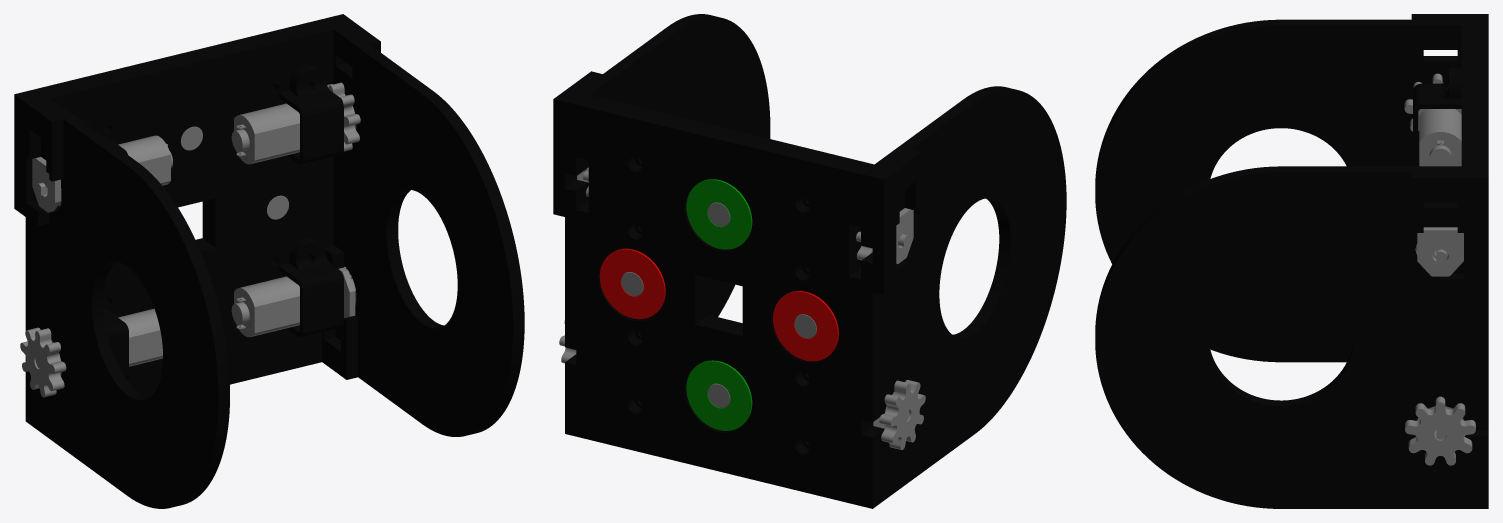
The model's file is ch_o Asm.dae.
3 views of the same model, side by side, from view 1: azimuth 30°, elevation 25°; view 2: azimuth 150°, elevation 25°; view 3: azimuth 270°, elevation 25° (orthographic). The views are drawn at different scales.
Visible parts, largest first — view 1: node; view 2: node; view 3: node.
Boxes of the visible parts, x1,y1,x2,y2 form: node: (14,14,524,508); node: (553,14,1066,508); node: (1095,14,1488,508).
Size of the model in its own units: 91.9 by 87.9 by 93.09.
